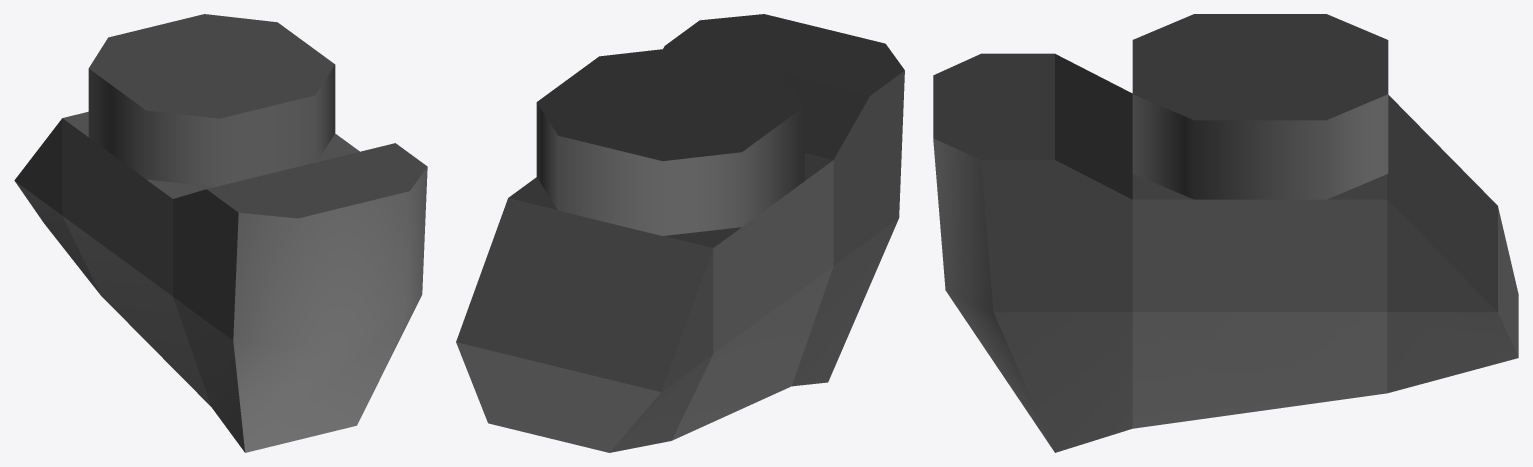
The model's file is ship_tt_00.glb.
3 renders of one model, left to right at view 1: azimuth 30°, elevation 25°; view 2: azimuth 150°, elevation 25°; view 3: azimuth 270°, elevation 25°, orthographic. The views are drawn at different scales.
Parts seen in each view (by area): view 1: group_19; view 2: group_19; view 3: group_19.
Boxes of the visible parts, x1,y1,x2,y2 form: group_19: (14, 14, 427, 452); group_19: (456, 14, 904, 452); group_19: (933, 14, 1518, 452).
Bounding box in the file's own units: 734 × 1142 × 1710.
2 materials, 2 textured.
